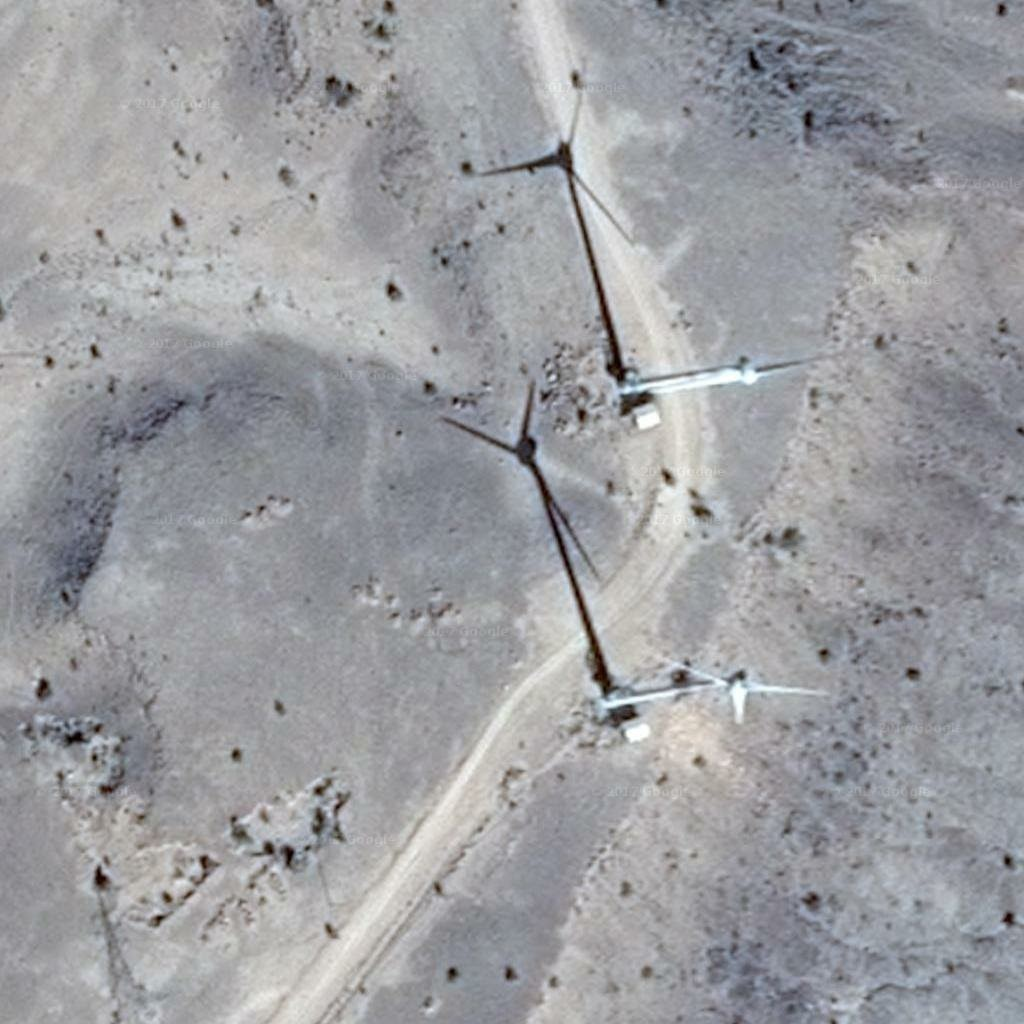Windmill: (439, 369, 636, 696)
